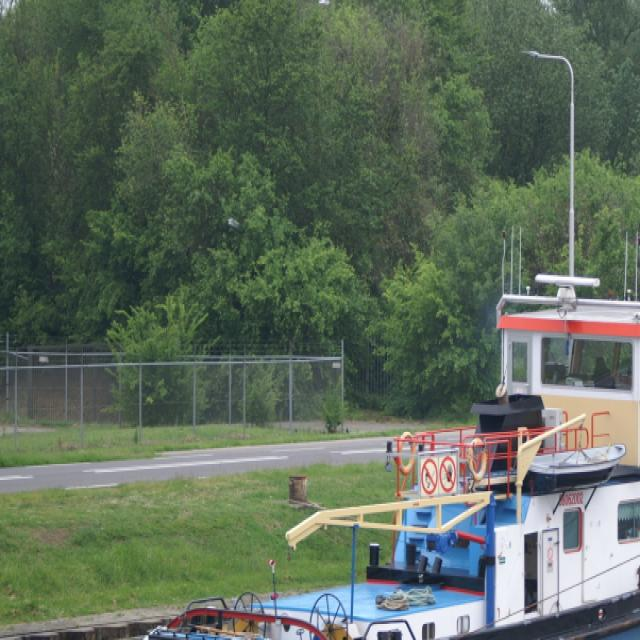tugboat: (102, 223, 640, 640)
